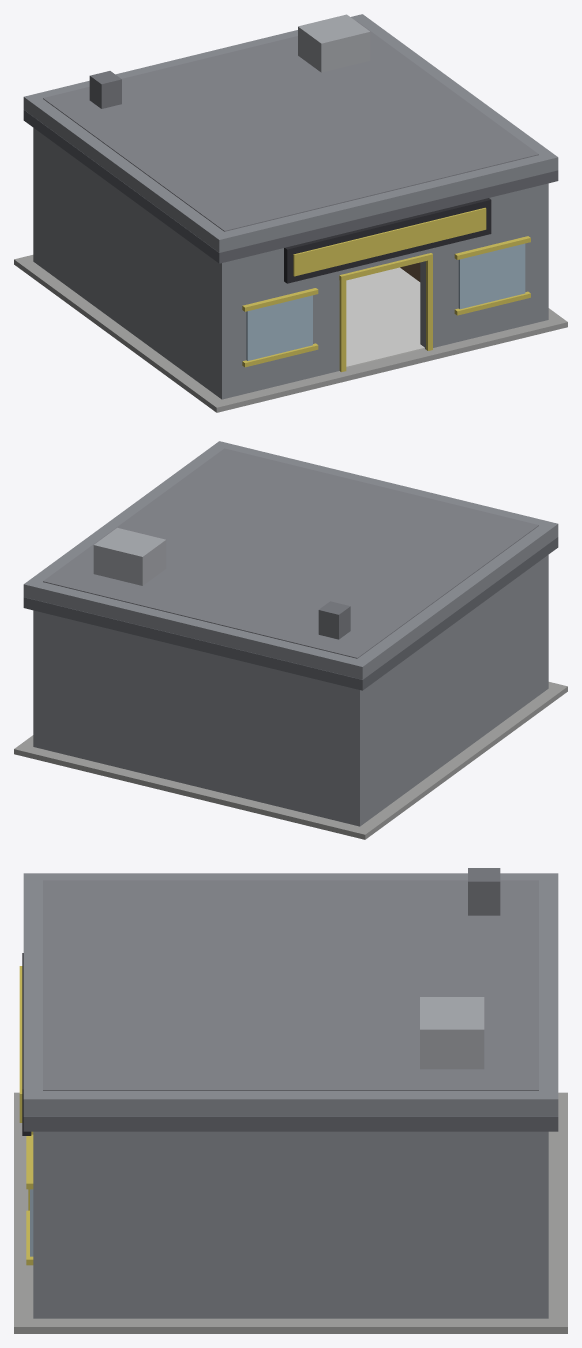
Rendered from Dukkan_Kuyumcu.glb.
3 views of the same model, one above another, from view 1: azimuth 30°, elevation 25°; view 2: azimuth 150°, elevation 25°; view 3: azimuth 270°, elevation 25° (orthographic). The views are drawn at different scales.
Visible parts, largest first — view 1: Dukkan_Kuyumcu; view 2: Dukkan_Kuyumcu; view 3: Dukkan_Kuyumcu.
Part boxes in pixels (x1,y1,x2,y2): Dukkan_Kuyumcu: [14, 14, 567, 412]; Dukkan_Kuyumcu: [14, 441, 567, 839]; Dukkan_Kuyumcu: [14, 868, 567, 1333].
Size of the model in its own units: 8.6 by 4.65 by 8.6.
